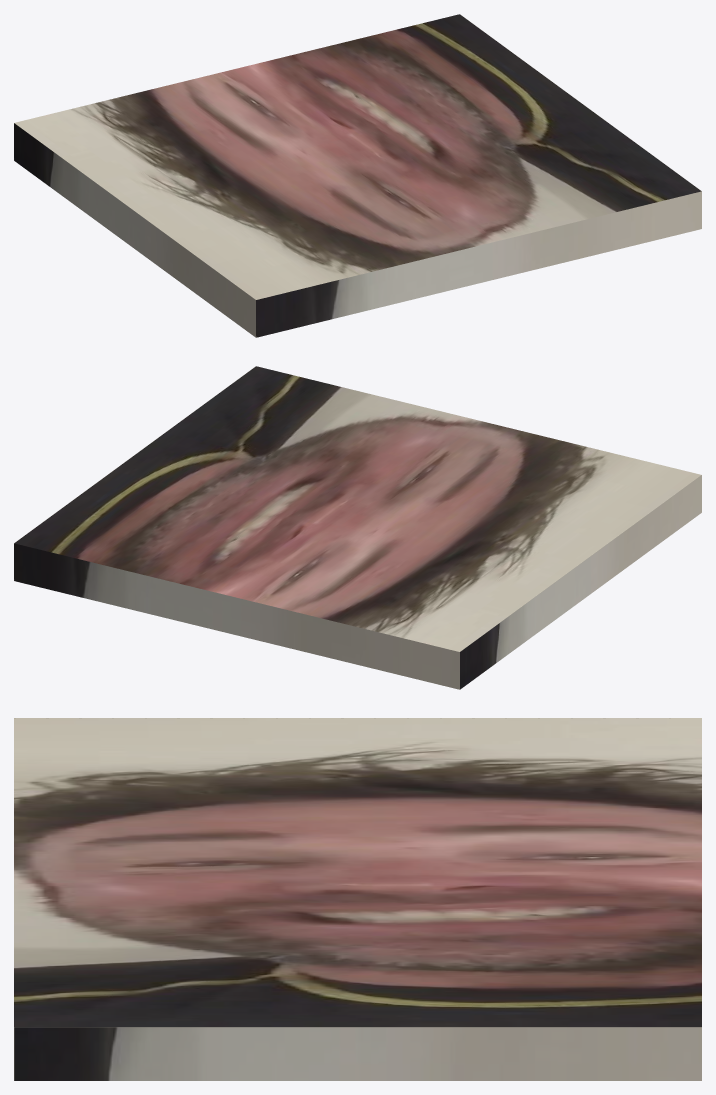
File: billy-plane-sep.glb
3 renders of one model, top to bottom at view 1: azimuth 30°, elevation 25°; view 2: azimuth 150°, elevation 25°; view 3: azimuth 270°, elevation 25°, orthographic. The views are drawn at different scales.
Parts seen in each view (by area): view 1: Cube; view 2: Cube; view 3: Cube.
Boxes of the visible parts, x1,y1,x2,y2 form: Cube: (14, 14, 701, 337); Cube: (14, 366, 701, 689); Cube: (14, 718, 701, 1080).
Bounding box in the file's own units: 24.75 × 2 × 23.27.
Materials: 1 (1 with a texture image).
